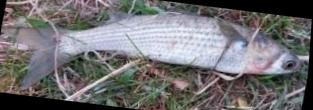fish: (12, 7, 303, 88)
